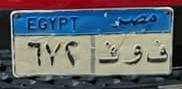2: (64, 40, 81, 68)
6: (25, 39, 42, 68)
7: (44, 40, 61, 68)
faa: (145, 38, 169, 66), (96, 42, 120, 66)
waw: (121, 42, 143, 68)
